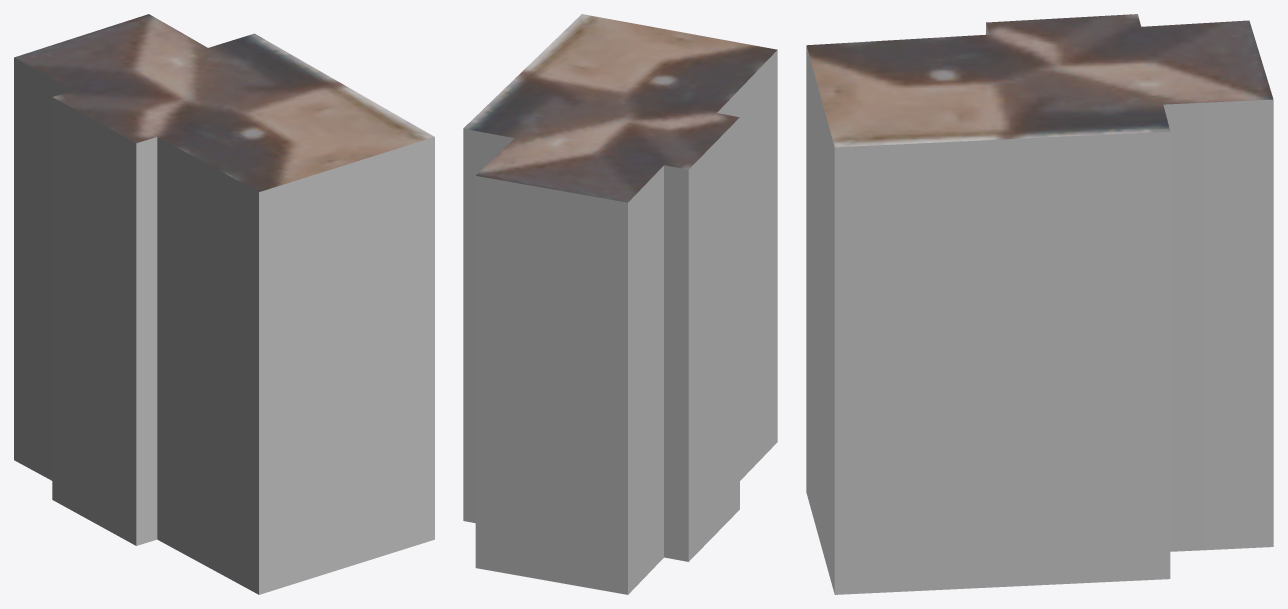
The model's file is DEBW_0010007Tvja.gltf.
The picture shows the model from 3 angles, left to right: view 1: azimuth 30°, elevation 25°; view 2: azimuth 150°, elevation 25°; view 3: azimuth 270°, elevation 25°; orthographic projection. The views are drawn at different scales.
Parts seen in each view (by area): view 1: Z_UP; view 2: Z_UP; view 3: Z_UP.
Boxes of the visible parts, x1,y1,x2,y2 form: Z_UP: (14, 14, 434, 594); Z_UP: (463, 14, 777, 594); Z_UP: (806, 14, 1273, 594).
Size of the model in its own units: 11.15 by 17.43 by 16.49.
2 materials, 1 textured.
